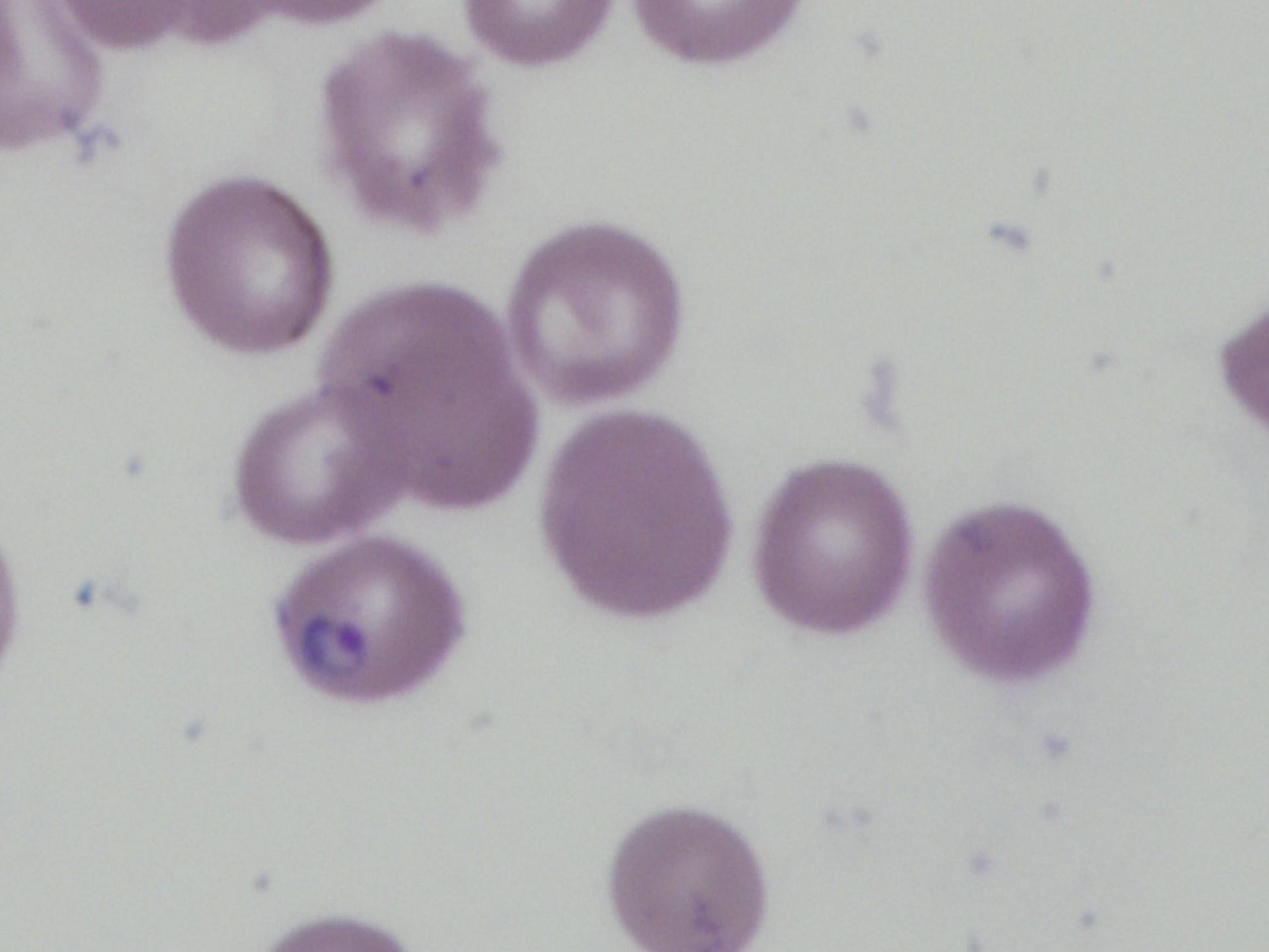Infected: (802, 250, 991, 406)
Uninfected: (736, 448, 944, 664), (542, 340, 728, 536), (769, 716, 943, 915), (599, 549, 758, 723), (941, 598, 1100, 771), (181, 272, 341, 441), (357, 320, 516, 486), (872, 413, 1034, 557), (511, 1, 655, 140)
